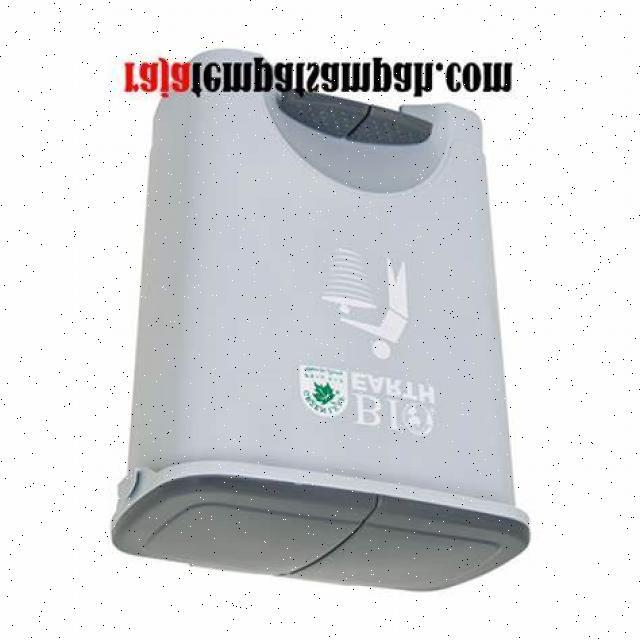garbage container: (65, 102, 620, 602)
